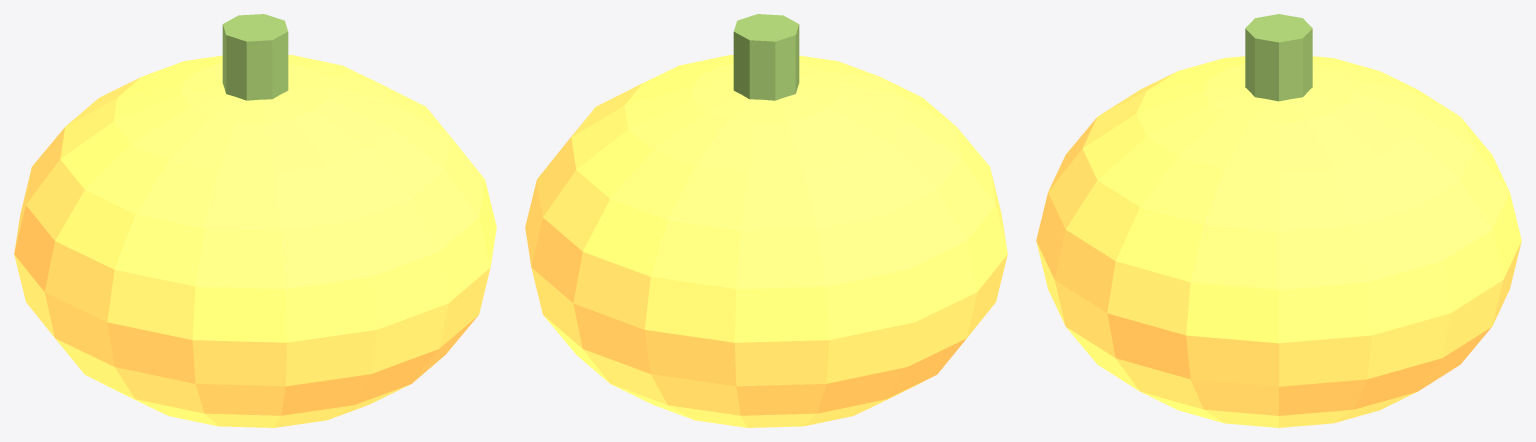
The model's file is pumpkin.glb.
3 renders of one model, left to right at view 1: azimuth 30°, elevation 25°; view 2: azimuth 150°, elevation 25°; view 3: azimuth 270°, elevation 25°, orthographic.
Visible parts, largest first — view 1: Pumpkin; view 2: Pumpkin; view 3: Pumpkin.
Boxes of the visible parts, bbox=[...] form: Pumpkin: bbox=[14, 14, 496, 427]; Pumpkin: bbox=[525, 14, 1007, 427]; Pumpkin: bbox=[1036, 14, 1521, 427].
Bounding box in the file's own units: 2.3 × 1.93 × 2.3.
